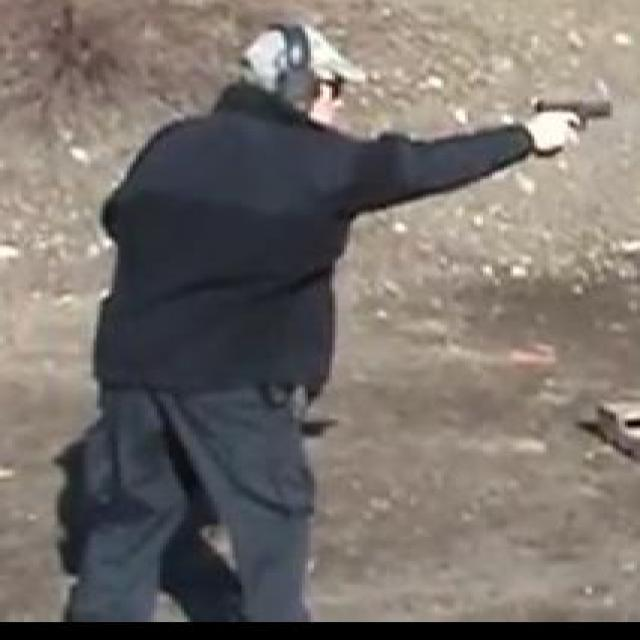gun: (522, 94, 616, 157)
